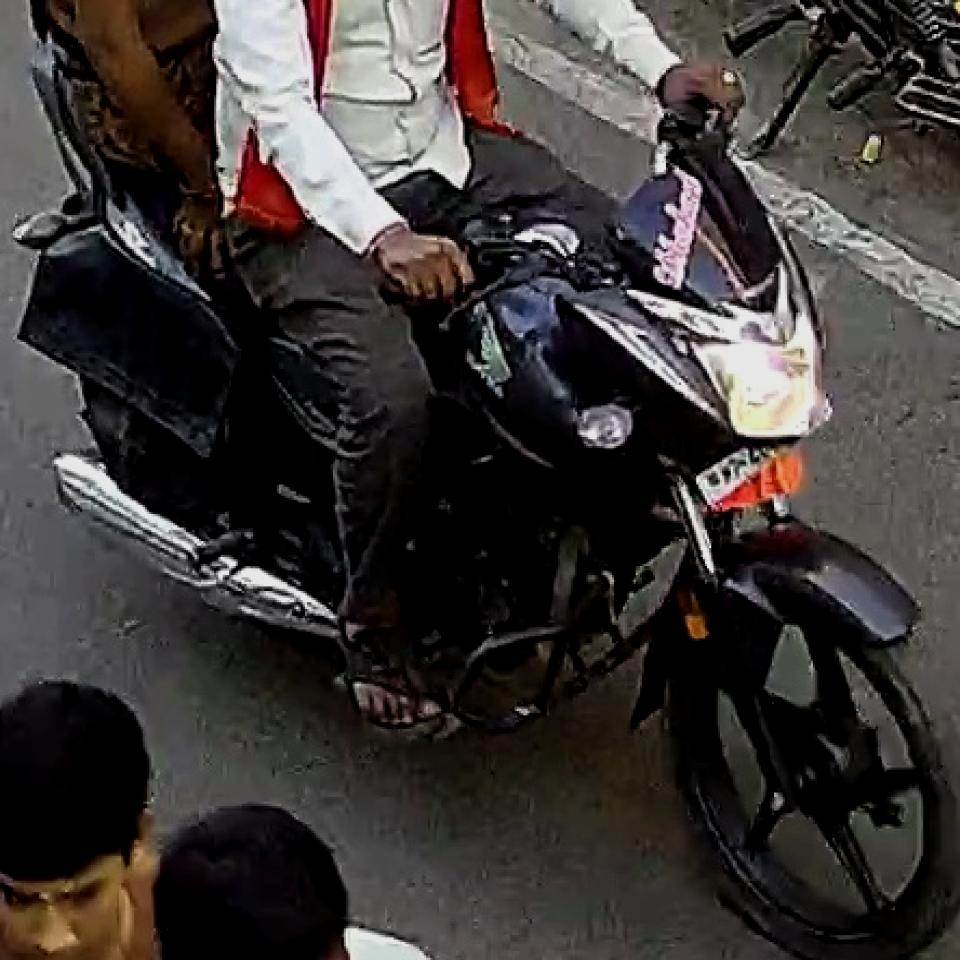head_light: (691, 312, 822, 433)
